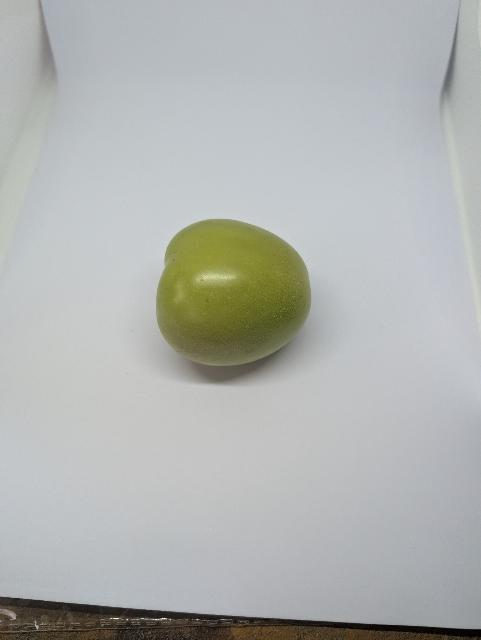green: (147, 196, 325, 388)
